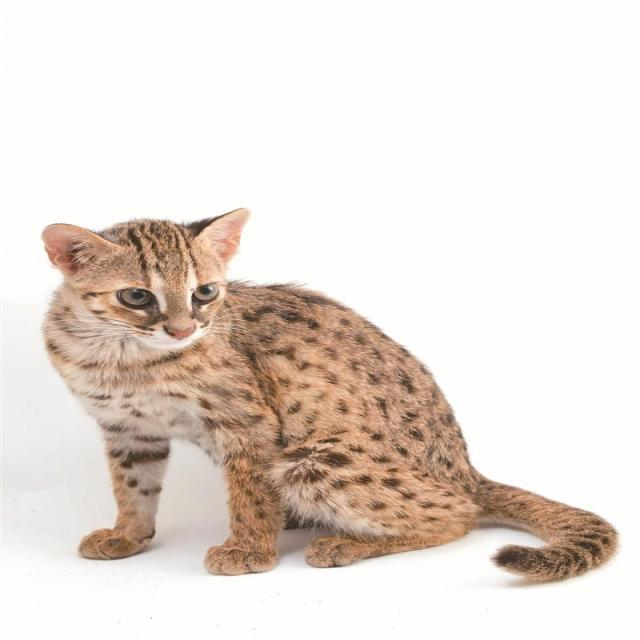leopard: (42, 222, 543, 570)
